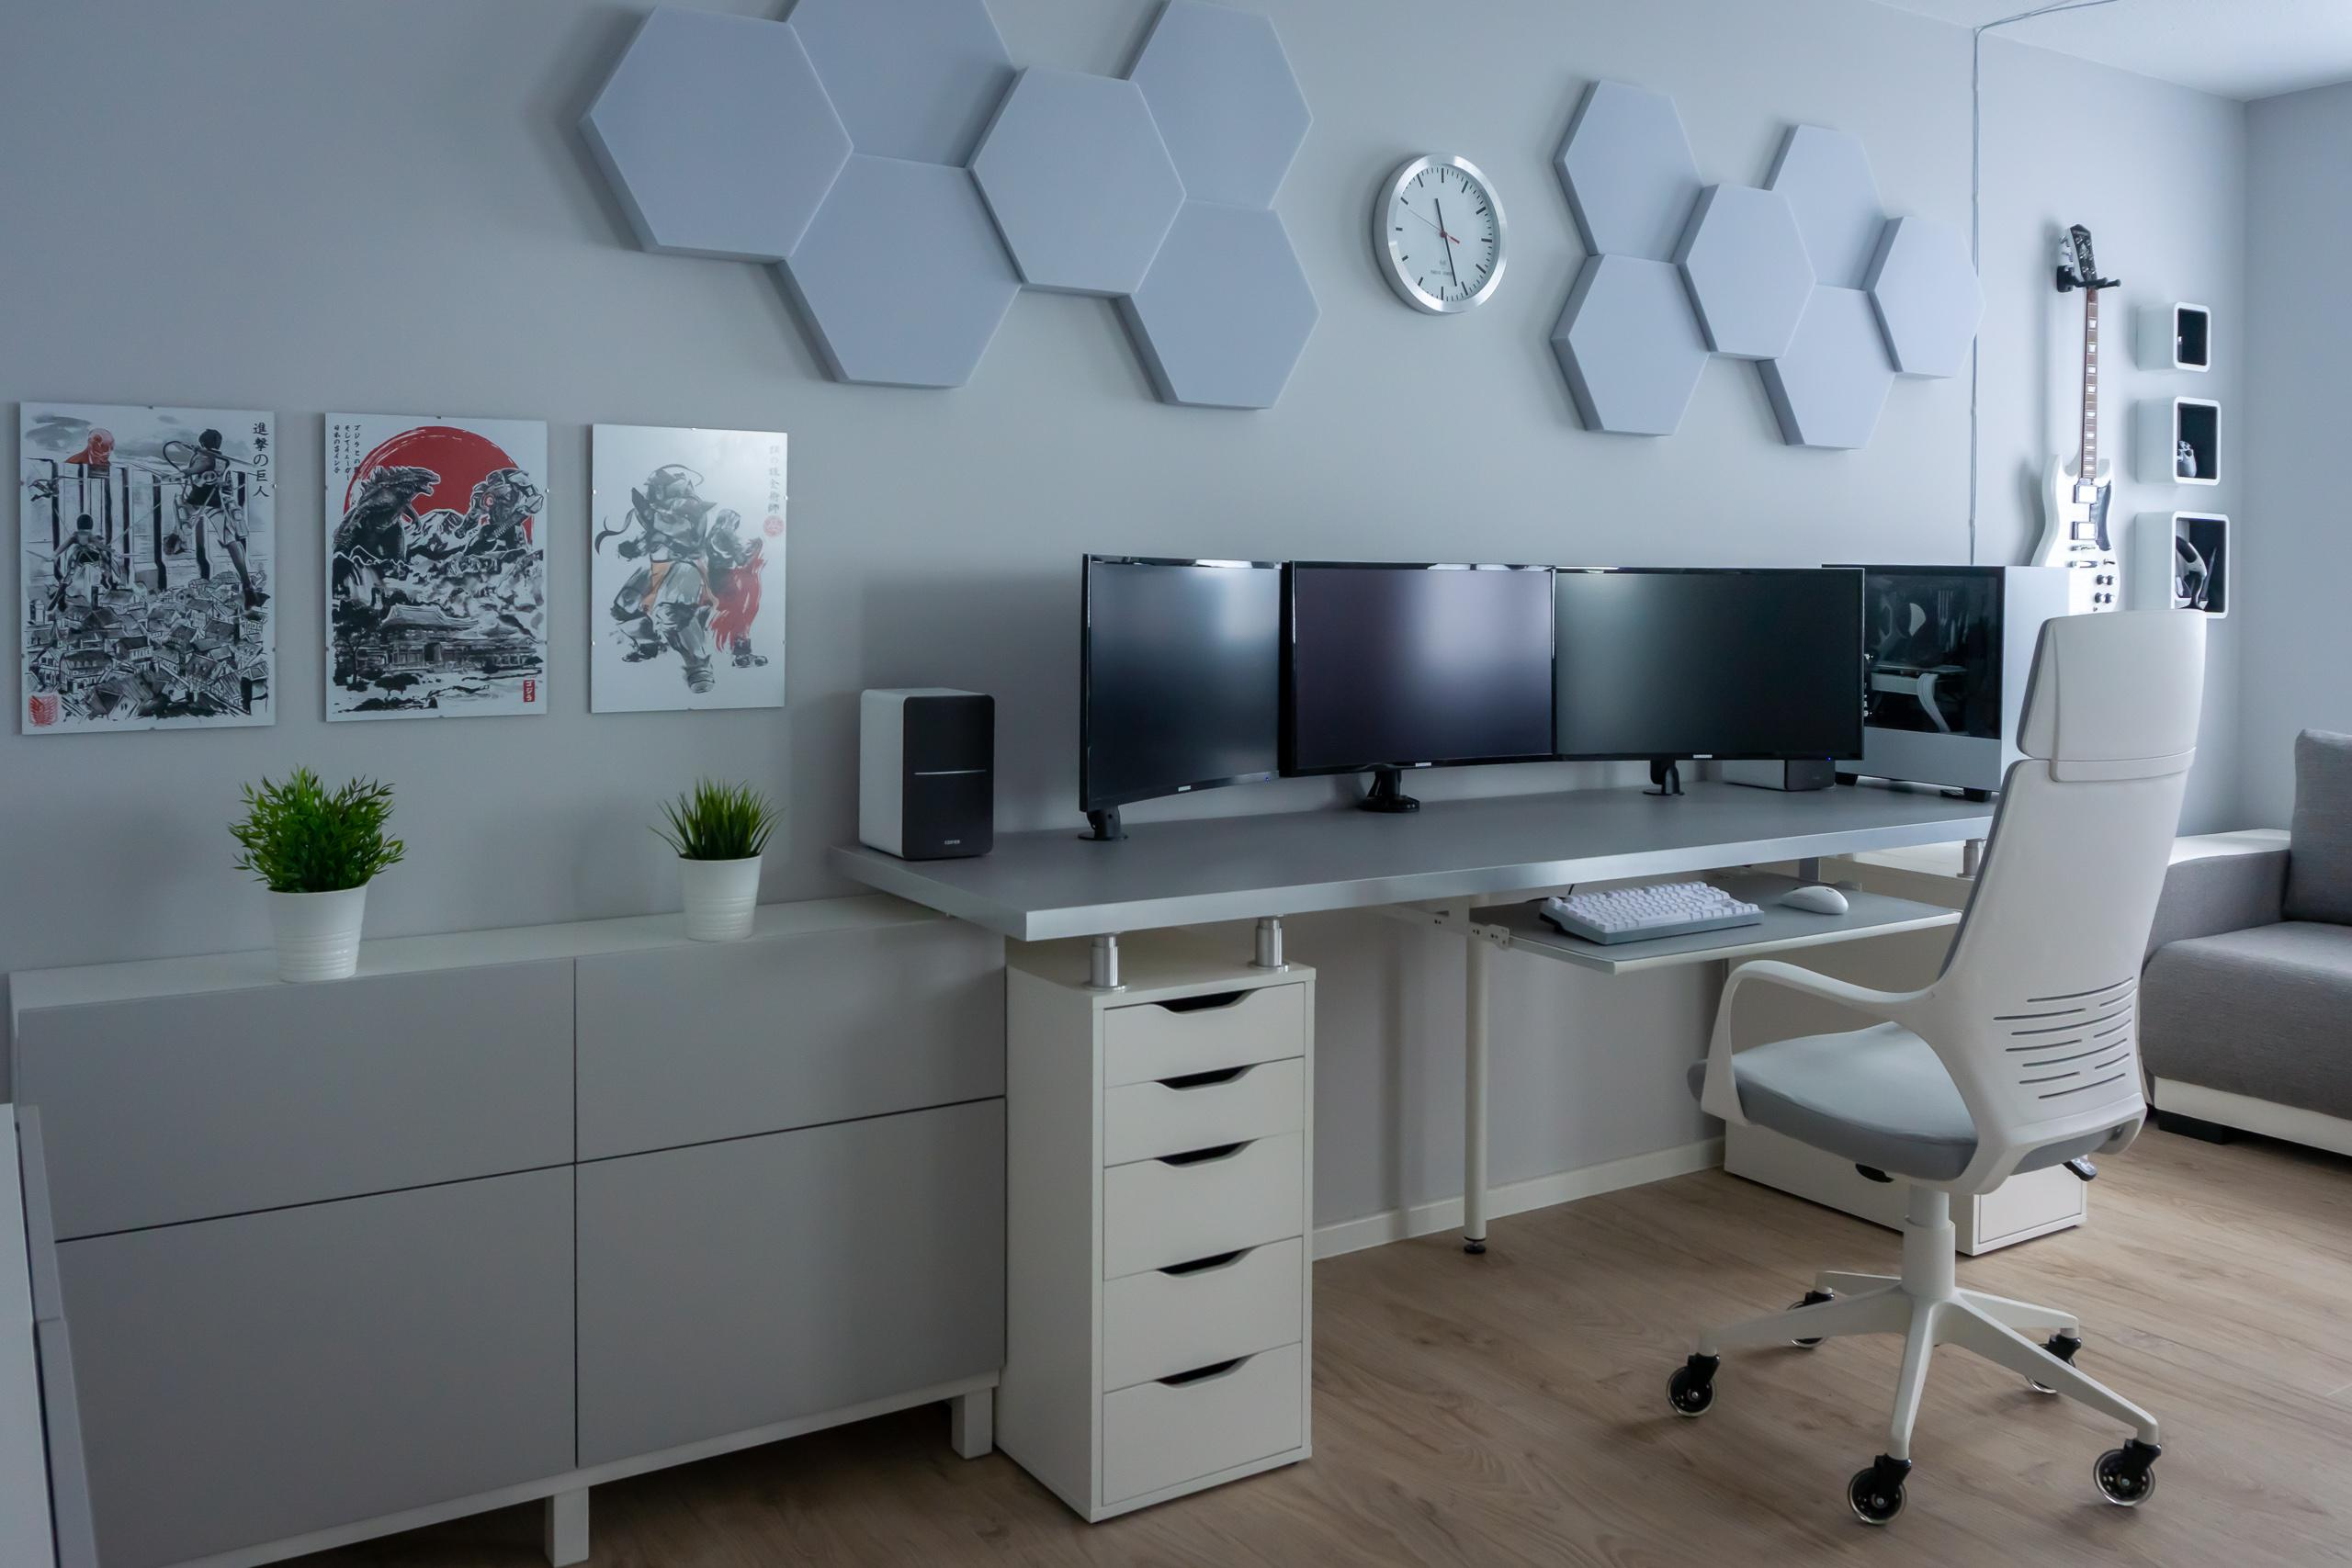Chair (Generic): (1666, 606, 2210, 1533)
Decoration (Clock): (1368, 145, 1514, 318)
Decoration (Picture): (16, 392, 789, 740)
Decoration (Plant): (220, 754, 411, 984), (644, 773, 784, 947)
Desk (Generic): (826, 772, 2088, 1522)
External Speakers (Generic): (857, 684, 996, 861), (1717, 758, 1841, 794)
Monitor (Landscape): (1556, 565, 1862, 789), (1290, 558, 1556, 810), (1076, 549, 1281, 833), (1836, 555, 2068, 794), (1540, 880, 1764, 950)
Mouse (Generic): (1778, 886, 1843, 919)
Musical Instrument (Electric Guitar): (2030, 226, 2123, 614)
Storage Drawer: (1008, 935, 1316, 1524)
